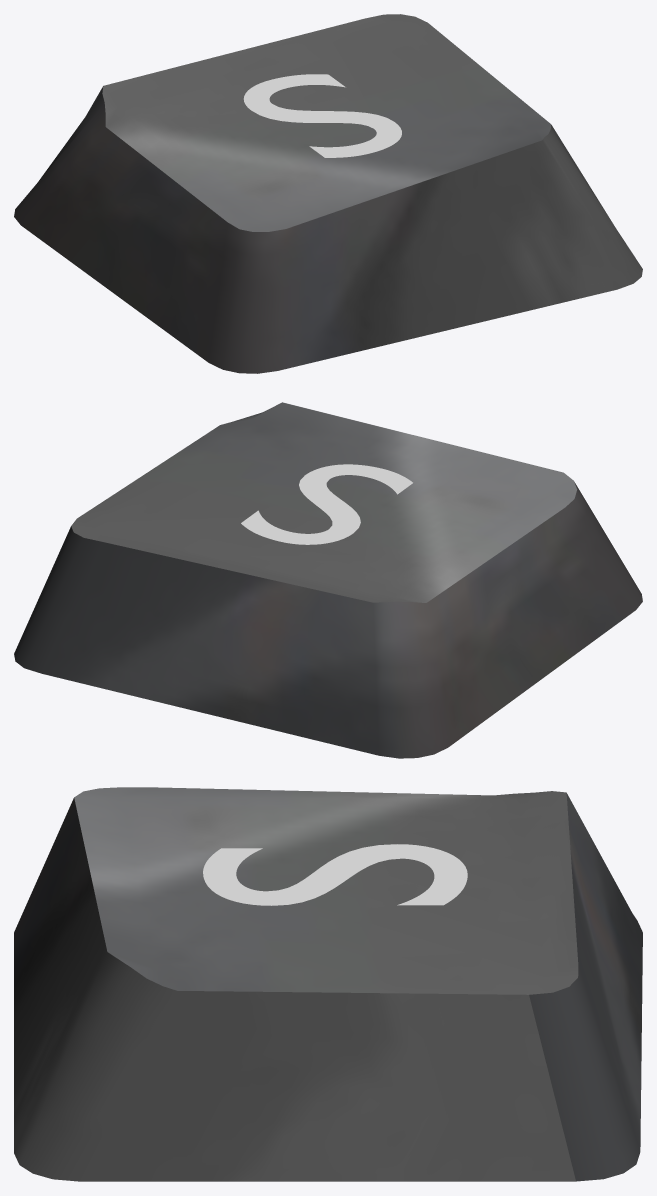
The model's file is S Rock.fbx.
3 renders of one model, top to bottom at view 1: azimuth 30°, elevation 25°; view 2: azimuth 150°, elevation 25°; view 3: azimuth 270°, elevation 25°, orthographic. The views are drawn at different scales.
Parts seen in each view (by area): view 1: keyboard.004, Text.003; view 2: keyboard.004, Text.003; view 3: keyboard.004, Text.003.
Part boxes in pixels (<box>): keyboard.004: <box>14,14,642,373</box>; Text.003: <box>243,74,401,157</box>; keyboard.004: <box>14,402,642,758</box>; Text.003: <box>241,464,412,544</box>; keyboard.004: <box>14,787,642,1181</box>; Text.003: <box>203,844,467,905</box>.
Bounding box in the file's own units: 1.56 × 0.4657 × 1.51.
